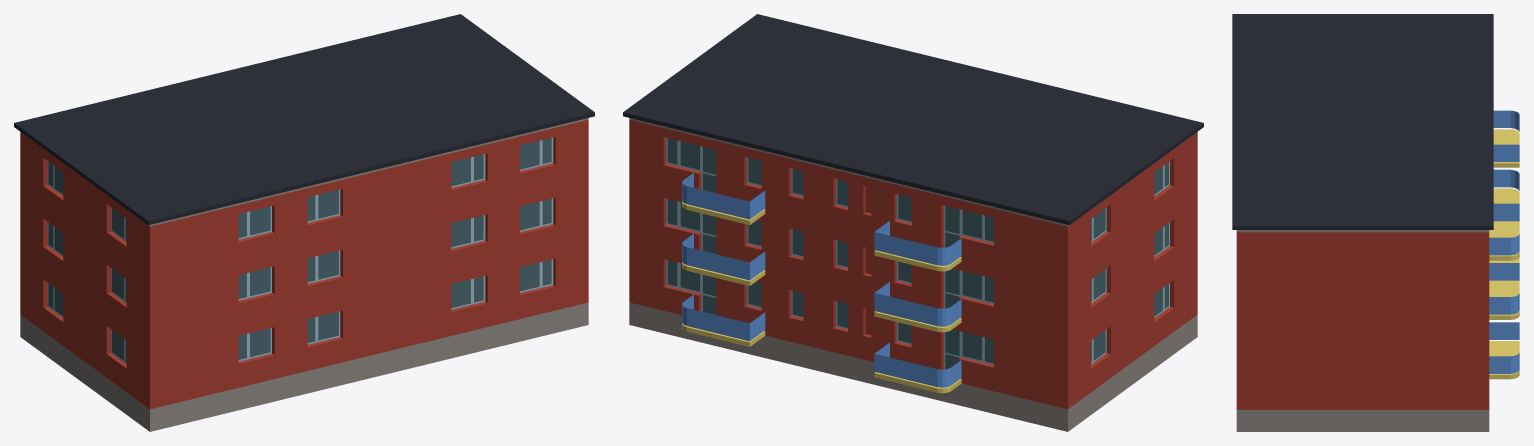
The model's file is tower_house_02.fbx.
3 renders of one model, left to right at view 1: azimuth 30°, elevation 25°; view 2: azimuth 150°, elevation 25°; view 3: azimuth 270°, elevation 25°, orthographic. The views are drawn at different scales.
Visible parts, largest first — view 1: tower_house_02, tower_house_02-2; view 2: tower_house_02, tower_house_02-2; view 3: tower_house_02-2, tower_house_02.
Part boxes in pixels (<box>): tower_house_02: <box>20,119,588,409</box>; tower_house_02-2: <box>14,14,594,431</box>; tower_house_02: <box>629,119,1197,409</box>; tower_house_02-2: <box>623,14,1203,431</box>; tower_house_02-2: <box>1232,14,1493,431</box>; tower_house_02: <box>1236,110,1519,409</box>.
Bounding box in the file's own units: 2303 × 1051 × 1319.
